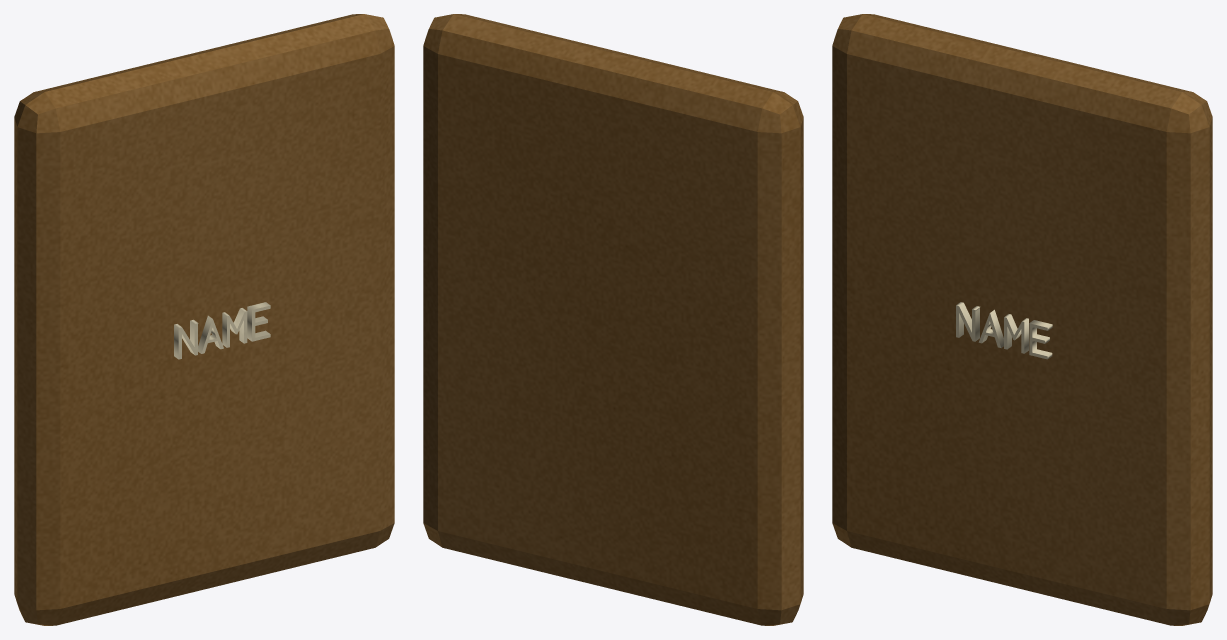
Rendered from name-impression.glb.
The picture shows the model from 3 angles, left to right: view 1: azimuth 30°, elevation 25°; view 2: azimuth 150°, elevation 25°; view 3: azimuth 330°, elevation 25°; orthographic projection.
Parts seen in each view (by area): view 1: Name impression brass backing, Name impression word; view 2: Name impression brass backing; view 3: Name impression brass backing, Name impression word.
Boxes of the visible parts, x1=… form: Name impression brass backing: x1=14, y1=14, x2=394, y2=625; Name impression word: x1=174, y1=302, x2=270, y2=359; Name impression brass backing: x1=423, y1=14, x2=803, y2=625; Name impression brass backing: x1=832, y1=14, x2=1212, y2=625; Name impression word: x1=956, y1=302, x2=1052, y2=359.
Size of the model in its own units: 0.055 by 0.075 by 0.0092.
Materials: 2 (2 with a texture image).
